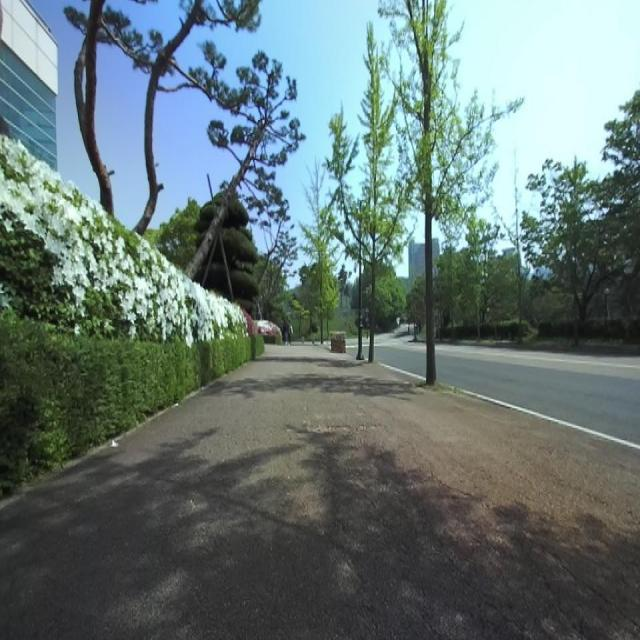sidewalk: (0, 346, 640, 639)
